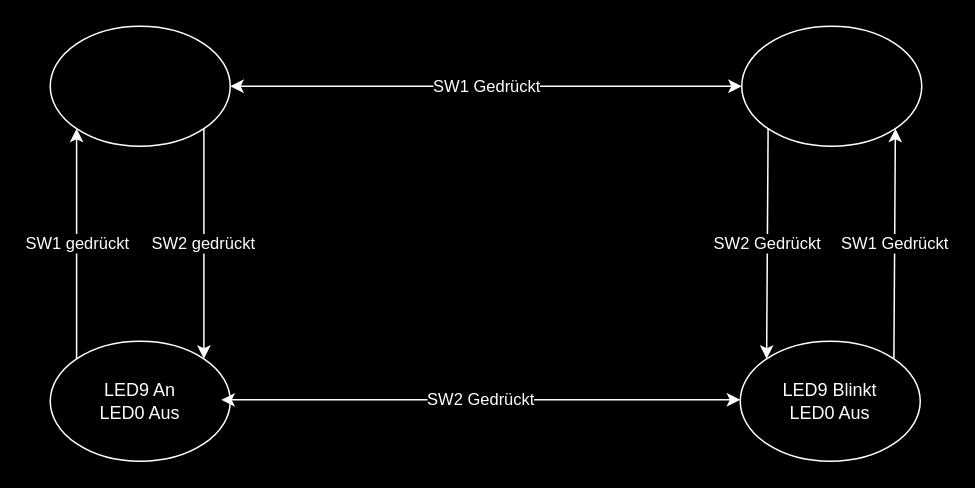
Image size: 975x488. Some labels were removed from this diagram. The shapes that lost their labels are listed below. From the top down, each one's box as (x1, y1, x2, y2) in pixels, then its label:
(49, 25, 230, 146): LED0 An LED9 Aus
(740, 25, 922, 146): LED0 Blinkt LED9 Aus
